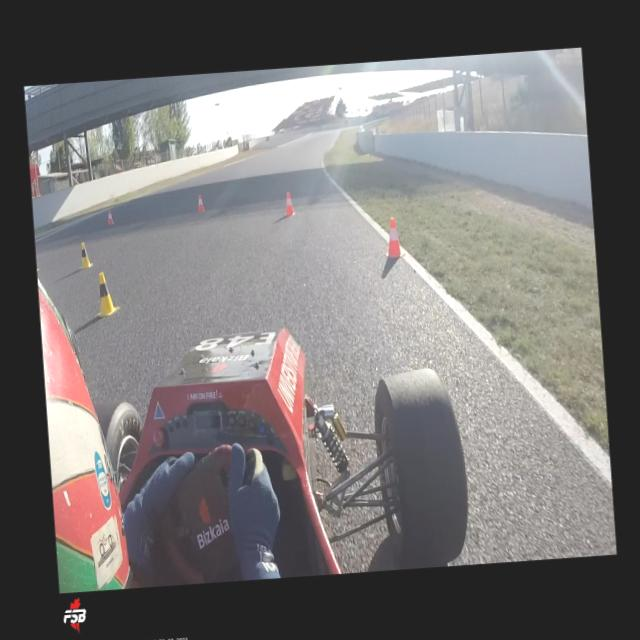orange_cone: (382, 217, 405, 260), (283, 191, 295, 217), (196, 194, 204, 213), (107, 210, 114, 226)
yellow_cone: (92, 271, 119, 318), (78, 240, 92, 268)
